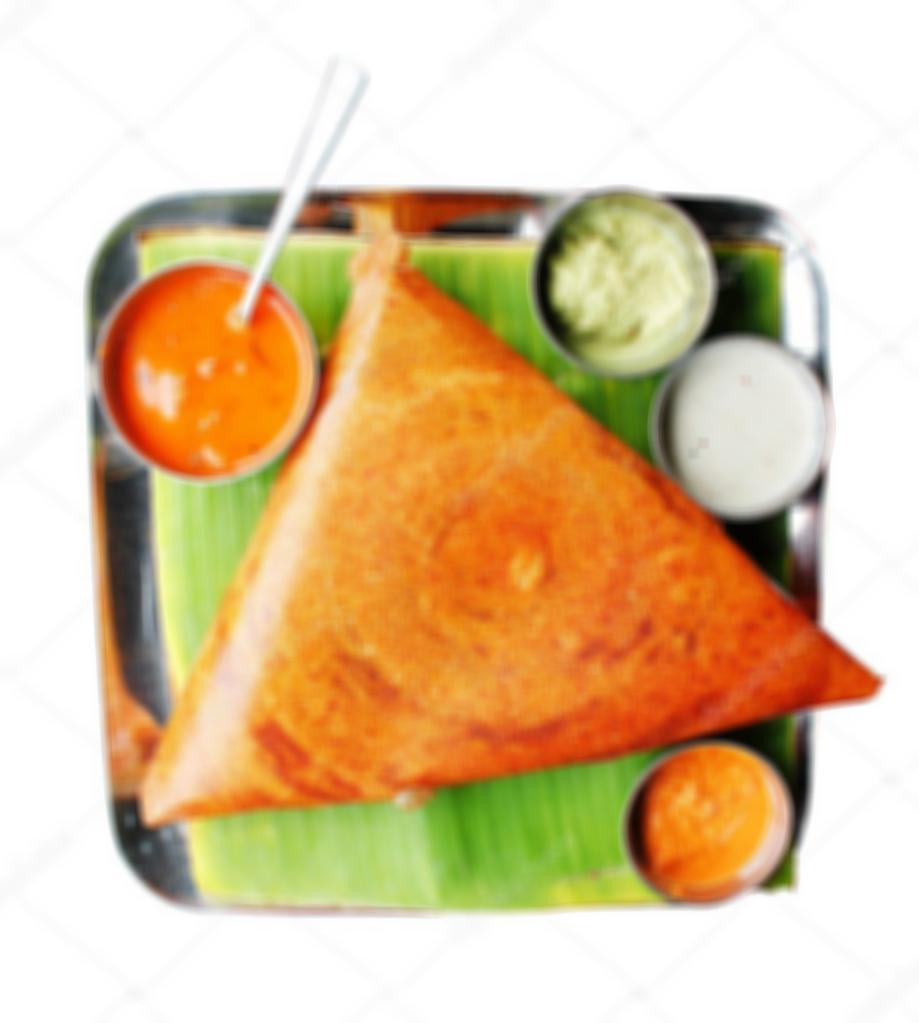dosa: (139, 213, 888, 844)
